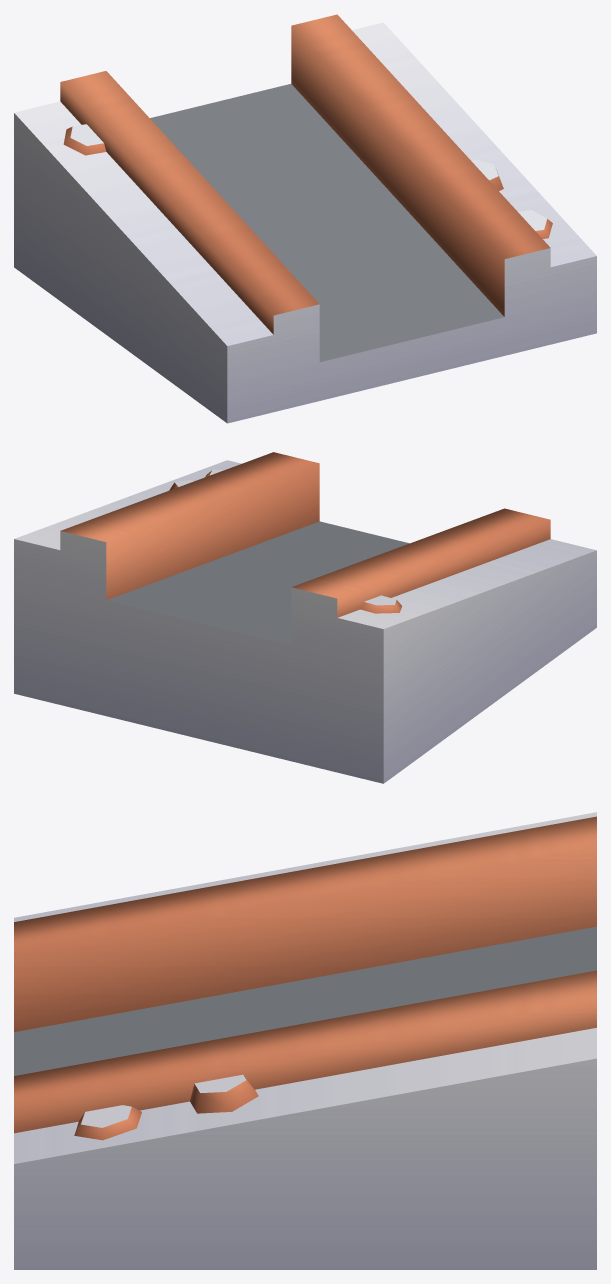
File: snow-tile-river-slope.fbx
3 renders of one model, top to bottom at view 1: azimuth 30°, elevation 25°; view 2: azimuth 150°, elevation 25°; view 3: azimuth 270°, elevation 25°, orthographic. The views are drawn at different scales.
Parts seen in each view (by area): view 1: snow-tile-river-slope; view 2: snow-tile-river-slope; view 3: snow-tile-river-slope.
Boxes of the visible parts, <box> form: snow-tile-river-slope: <box>14,14,596,423</box>; snow-tile-river-slope: <box>14,452,596,783</box>; snow-tile-river-slope: <box>14,812,596,1269</box>.
Bounding box in the file's own units: 100 × 45 × 100.
